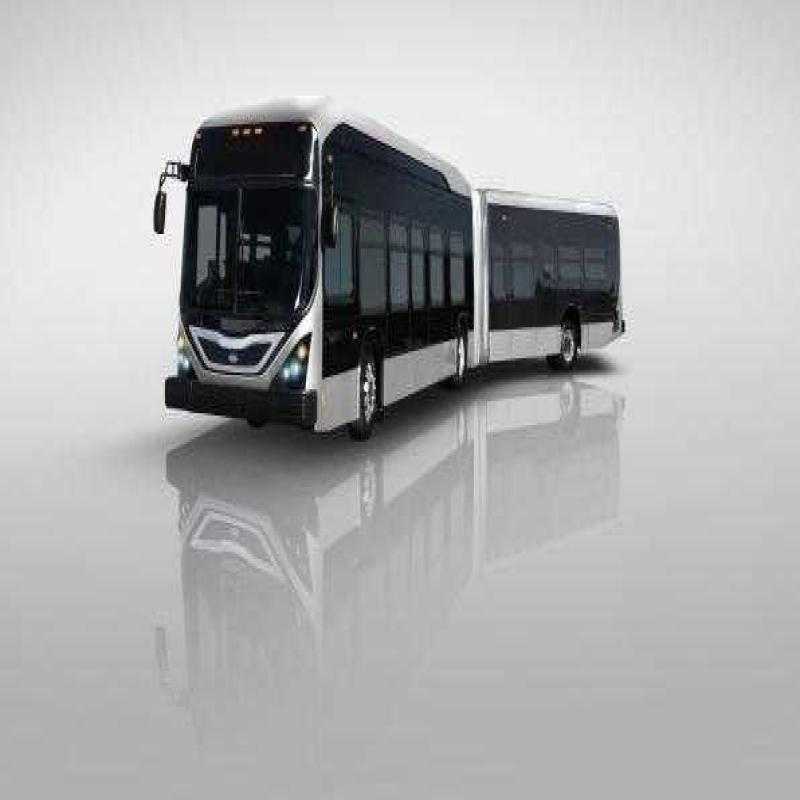bus: (130, 91, 640, 491)
